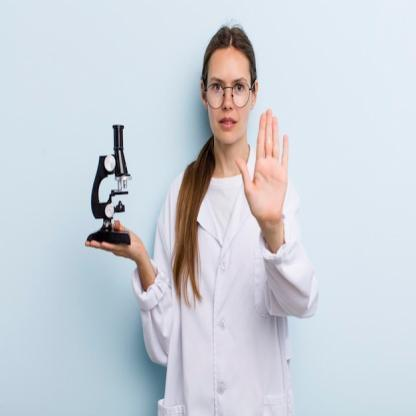stop: (232, 105, 292, 229)
